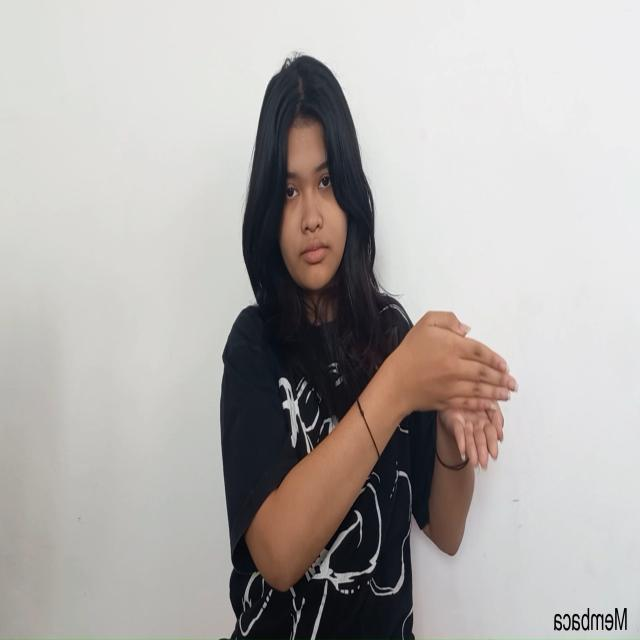Membaca -BISINDO-: (393, 312, 520, 472)
